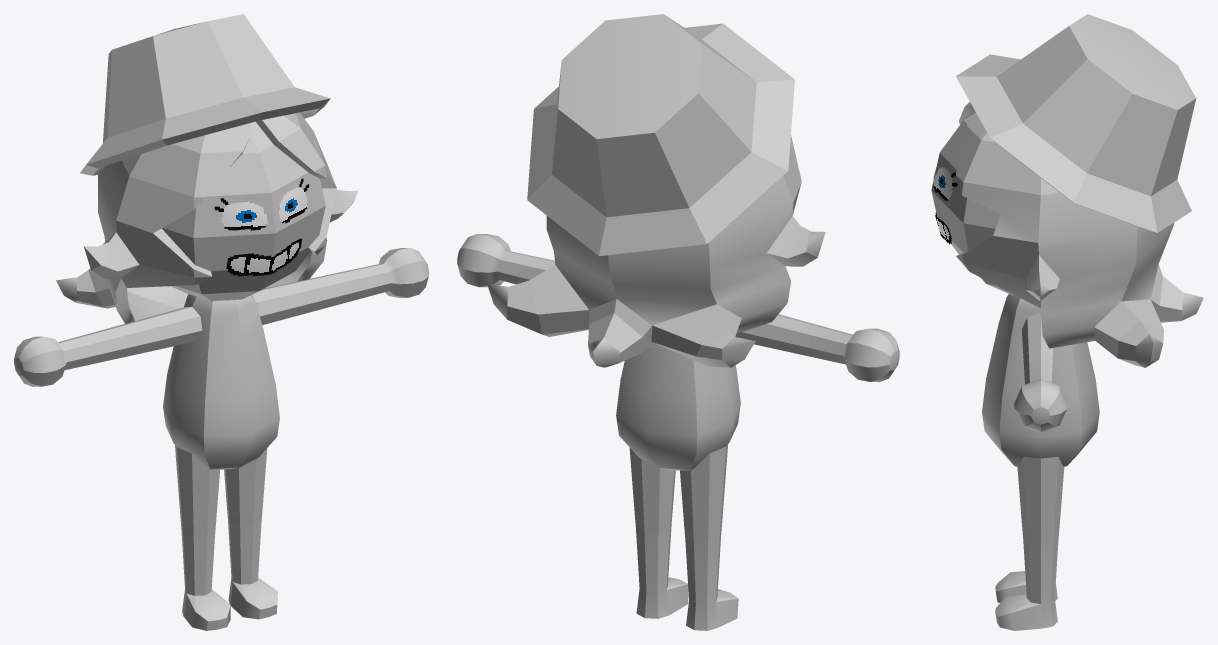
The picture shows the model from 3 angles, left to right: view 1: azimuth 30°, elevation 25°; view 2: azimuth 150°, elevation 25°; view 3: azimuth 270°, elevation 25°; orthographic projection. The views are drawn at different scales.
Visible parts, largest first — view 1: SM_OL_Head, SM_Hat, Puppet_0011:SM_Body, Puppet_0011:SM_ArmR, Puppet_0011:SM_LegR, Puppet_0011:SM_ArmL, Puppet_0011:SM_LegL, SM_FacePlane; view 2: SM_Hat, SM_OL_Head, Puppet_0011:SM_Body, Puppet_0011:SM_LegR, Puppet_0011:SM_LegL, Puppet_0011:SM_ArmR, Puppet_0011:SM_ArmL; view 3: SM_Hat, SM_OL_Head, Puppet_0011:SM_Body, Puppet_0011:SM_LegL, Puppet_0011:SM_ArmL, SM_FacePlane, Puppet_0011:SM_LegR.
Part boxes in pixels (x1,y1,x2,y2): SM_OL_Head: [56, 112, 357, 323]; SM_Hat: [80, 14, 330, 175]; Puppet_0011:SM_Body: [163, 294, 279, 469]; Puppet_0011:SM_ArmR: [14, 306, 202, 386]; Puppet_0011:SM_LegR: [175, 445, 230, 630]; Puppet_0011:SM_ArmL: [252, 248, 428, 324]; Puppet_0011:SM_LegL: [224, 448, 277, 619]; SM_FacePlane: [214, 178, 309, 276]; SM_Hat: [527, 14, 794, 256]; SM_OL_Head: [487, 135, 825, 367]; Puppet_0011:SM_Body: [616, 347, 740, 470]; Puppet_0011:SM_LegR: [680, 444, 738, 630]; Puppet_0011:SM_LegL: [629, 448, 688, 618]; Puppet_0011:SM_ArmR: [735, 314, 899, 382]; Puppet_0011:SM_ArmL: [457, 234, 555, 287]; SM_Hat: [956, 14, 1196, 232]; SM_OL_Head: [931, 102, 1203, 367]; Puppet_0011:SM_Body: [982, 294, 1099, 466]; Puppet_0011:SM_LegL: [995, 457, 1064, 630]; Puppet_0011:SM_ArmL: [1014, 312, 1067, 432]; SM_FacePlane: [933, 167, 957, 244]; Puppet_0011:SM_LegR: [995, 571, 1057, 602].
Bounding box in the file's own units: 4.37 × 5.89 × 2.52.
